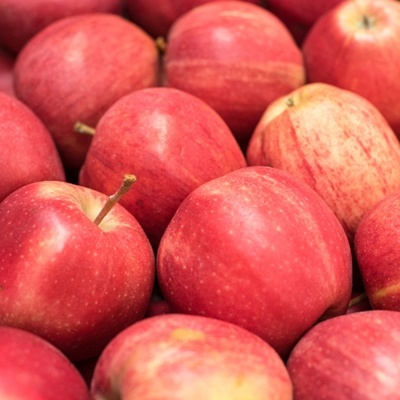apple: (168, 167, 355, 332), (86, 89, 245, 252), (1, 182, 156, 345), (244, 75, 400, 233), (14, 14, 160, 169), (161, 5, 301, 135), (88, 315, 302, 400), (296, 1, 400, 129), (285, 303, 398, 400), (1, 319, 85, 397), (1, 89, 57, 196), (353, 187, 400, 312)
